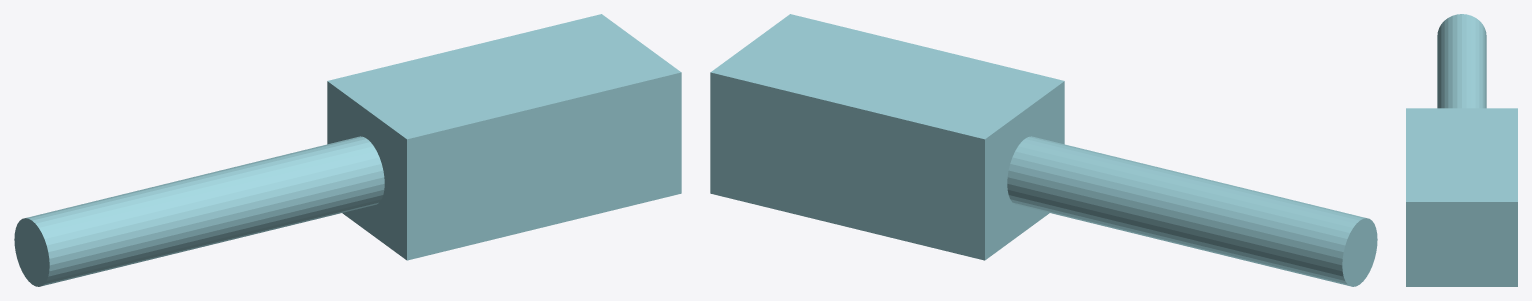
Rendered from cylinder_brush_v9004.obj.
The picture shows the model from 3 angles, left to right: view 1: azimuth 30°, elevation 25°; view 2: azimuth 150°, elevation 25°; view 3: azimuth 270°, elevation 25°; orthographic projection. The views are drawn at different scales.
Size of the model in its own units: 0.2505 by 0.0476 by 0.0568.
Materials: 1 (1 with a texture image).
